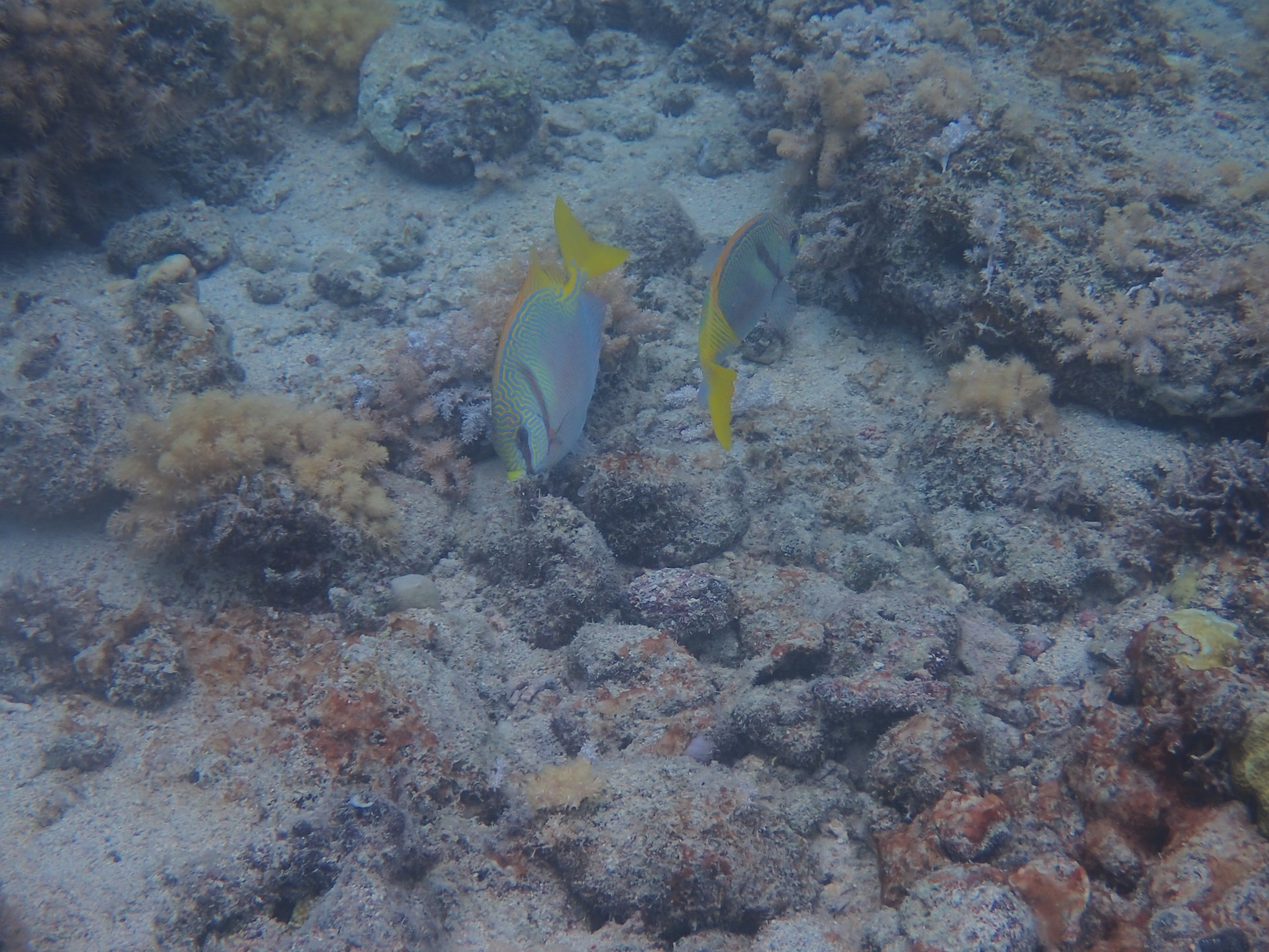fishbody: (484, 194, 642, 491), (690, 210, 808, 442)
fishhead: (490, 353, 573, 486), (746, 212, 804, 284)
